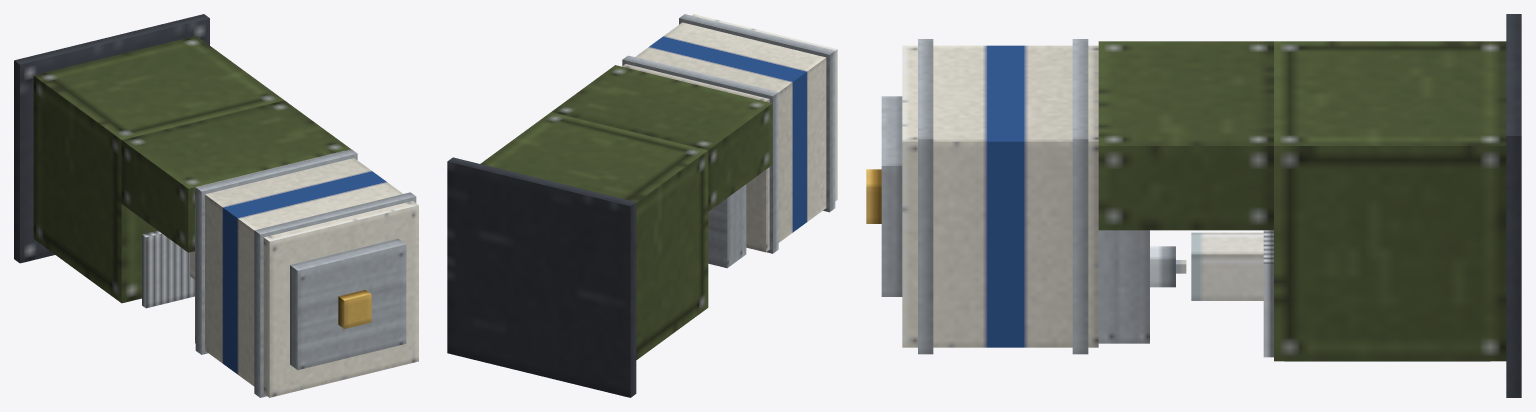
The model's file is milk_dispenser.obj.
3 renders of one model, left to right at view 1: azimuth 30°, elevation 25°; view 2: azimuth 150°, elevation 25°; view 3: azimuth 270°, elevation 25°, orthographic. The views are drawn at different scales.
Parts seen in each view (by area): view 1: milk_dispenser_Cabinet, milk_dispenser_Tank, milk_dispenser_Spine, milk_dispenser_Lid, milk_dispenser_Base_plate, milk_dispenser_Drip_tray, milk_dispenser_Tank_hoop_low, milk_dispenser_Tank_hoop_high, milk_dispenser_Lid_cap; view 2: milk_dispenser_Base_plate, milk_dispenser_Cabinet, milk_dispenser_Tank, milk_dispenser_Spine, milk_dispenser_Tank_hoop_high, milk_dispenser_Tank_hoop_low, milk_dispenser_Head; view 3: milk_dispenser_Cabinet, milk_dispenser_Tank, milk_dispenser_Spine, milk_dispenser_Base_plate, milk_dispenser_Head, milk_dispenser_Tank_hoop_low, milk_dispenser_Tank_hoop_high, milk_dispenser_Milk_glass, milk_dispenser_Lid, milk_dispenser_Drip_tray, milk_dispenser_Nozzle, milk_dispenser_Lid_cap.
Part boxes in pixels (box(x1,y1,x2,y2)): milk_dispenser_Cabinet: box(33, 36, 283, 303); milk_dispenser_Tank: box(195, 150, 418, 397); milk_dispenser_Spine: box(121, 100, 350, 252); milk_dispenser_Lid: box(290, 238, 406, 369); milk_dispenser_Base_plate: box(14, 14, 209, 263); milk_dispenser_Drip_tray: box(142, 230, 194, 308); milk_dispenser_Tank_hoop_low: box(195, 149, 357, 354); milk_dispenser_Tank_hoop_high: box(254, 192, 416, 397); milk_dispenser_Lid_cap: box(338, 290, 371, 328); milk_dispenser_Base_plate: box(447, 157, 636, 397); milk_dispenser_Cabinet: box(480, 112, 708, 359); milk_dispenser_Tank: box(622, 14, 837, 252); milk_dispenser_Spine: box(551, 65, 772, 211); milk_dispenser_Tank_hoop_high: box(679, 14, 835, 212); milk_dispenser_Tank_hoop_low: box(622, 55, 778, 253); milk_dispenser_Head: box(708, 184, 746, 268); milk_dispenser_Cabinet: box(1274, 41, 1506, 361); milk_dispenser_Tank: box(902, 45, 1098, 347); milk_dispenser_Spine: box(1098, 41, 1273, 230); milk_dispenser_Base_plate: box(1506, 14, 1521, 397); milk_dispenser_Head: box(1098, 230, 1149, 343); milk_dispenser_Tank_hoop_low: box(1072, 39, 1088, 354); milk_dispenser_Tank_hoop_high: box(918, 39, 933, 354); milk_dispenser_Milk_glass: box(1191, 232, 1263, 300); milk_dispenser_Lid: box(881, 96, 902, 296); milk_dispenser_Drip_tray: box(1263, 230, 1273, 357); milk_dispenser_Nozzle: box(1150, 246, 1175, 287); milk_dispenser_Lid_cap: box(866, 169, 881, 223).
Bounding box in the file's own units: 0.875 × 0.875 × 1.98.
